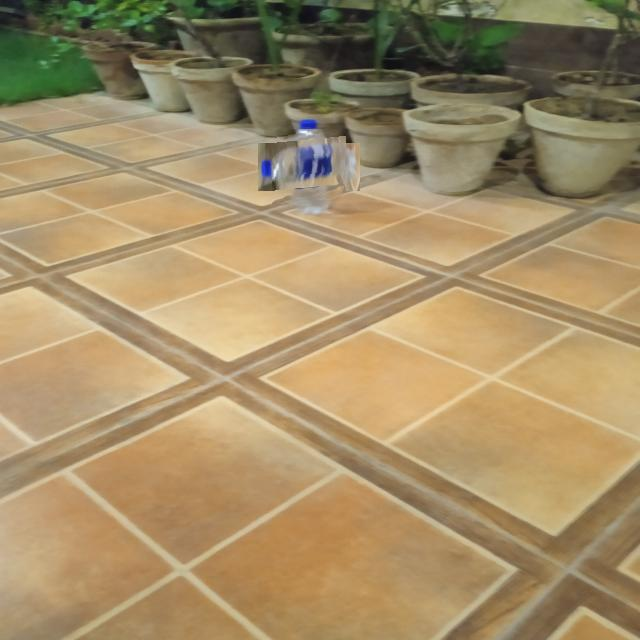Plastic: (272, 129, 347, 205)
